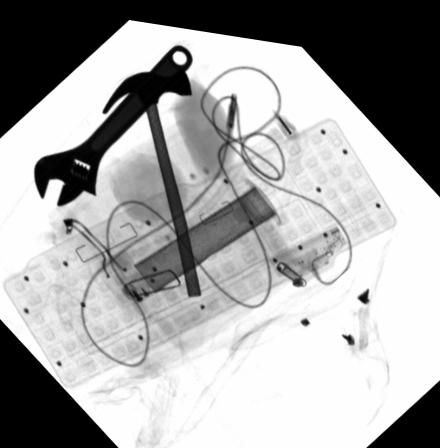Hammer: (102, 63, 201, 291)
Wrench: (32, 38, 192, 206)
